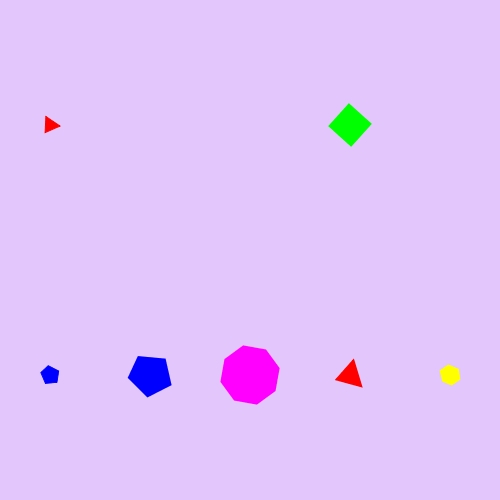hexagon: (435, 362, 466, 388)
octagon: (217, 342, 284, 409)
pentagon: (125, 350, 175, 400), (36, 361, 64, 389)
quadrilateral: (325, 100, 375, 150)
triangle: (333, 357, 367, 393), (38, 112, 63, 138)
